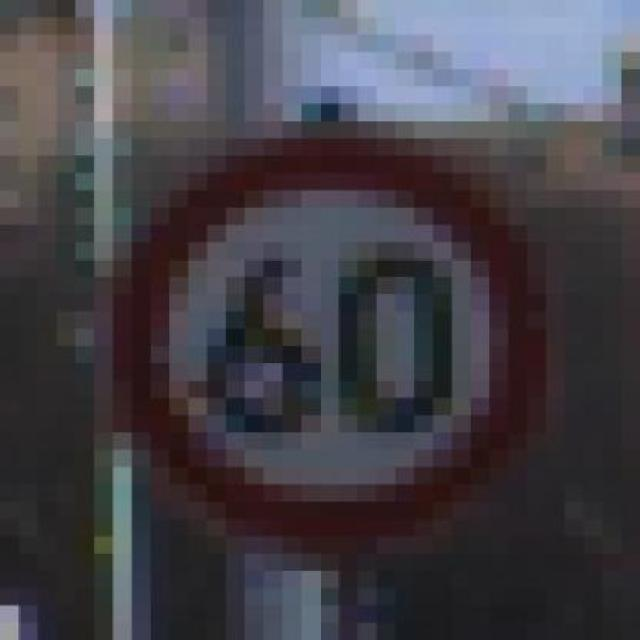forb_speed_over_60: (121, 132, 524, 543)
